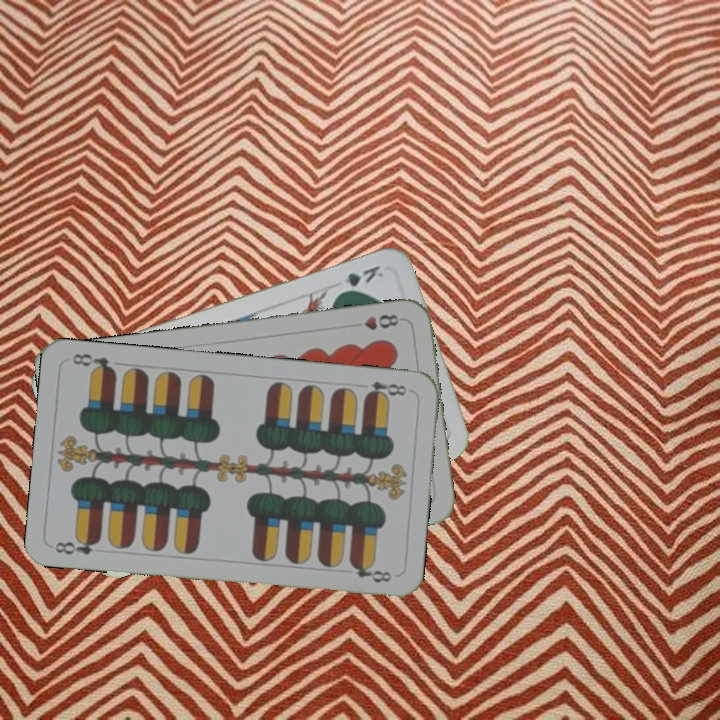E8: (51, 533, 103, 558), (361, 377, 410, 402)
GK: (332, 261, 386, 297)
H8: (347, 310, 402, 333)
